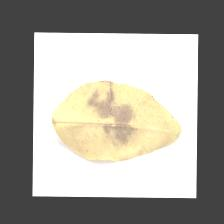black spot: (82, 76, 142, 146)
